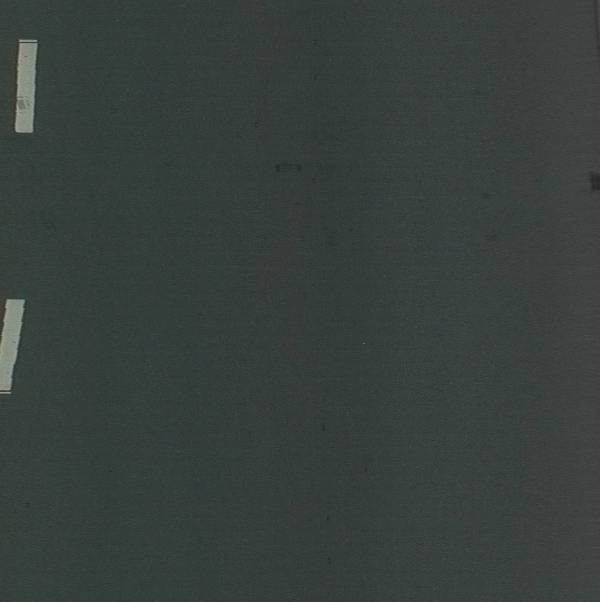road_damage: (273, 157, 310, 177)
